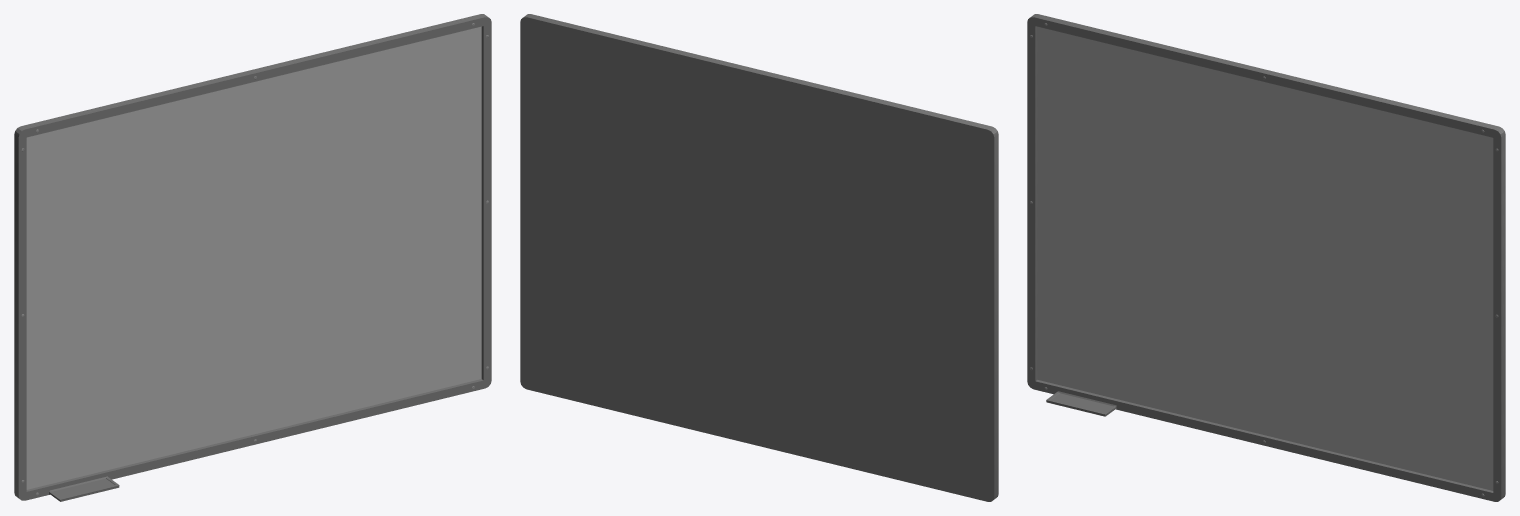
The model's file is school_whiteboard_90cm_x_120cm.glb.
3 renders of one model, left to right at view 1: azimuth 30°, elevation 25°; view 2: azimuth 150°, elevation 25°; view 3: azimuth 330°, elevation 25°, orthographic.
Parts seen in each view (by area): view 1: whiteboard.002; view 2: whiteboard.002; view 3: whiteboard.002.
Boxes of the visible parts, x1,y1,x2,y2 form: whiteboard.002: (14, 14, 491, 501); whiteboard.002: (520, 14, 998, 501); whiteboard.002: (1027, 14, 1505, 501).
Size of the model in its own units: 1.2 by 0.9 by 0.0694.
3 materials, 3 textured.
